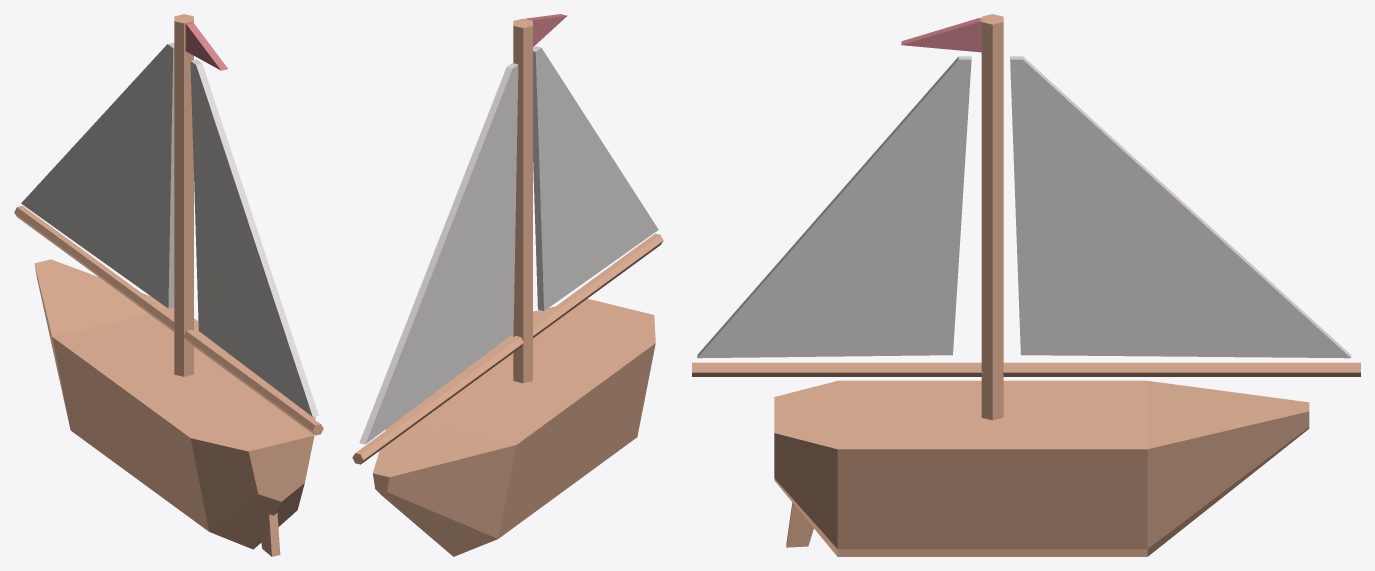
The model's file is sail_boat.fbx.
The picture shows the model from 3 angles, left to right: view 1: azimuth 30°, elevation 25°; view 2: azimuth 150°, elevation 25°; view 3: azimuth 270°, elevation 25°; orthographic projection. The views are drawn at different scales.
Visible parts, largest first — view 1: ship; view 2: ship; view 3: ship.
Boxes of the visible parts, box(x1,y1,x2,y2) form: ship: box(14, 14, 323, 556); ship: box(352, 14, 663, 556); ship: box(692, 14, 1360, 556).
Size of the model in its own units: 1.42 by 5.21 by 5.88.
